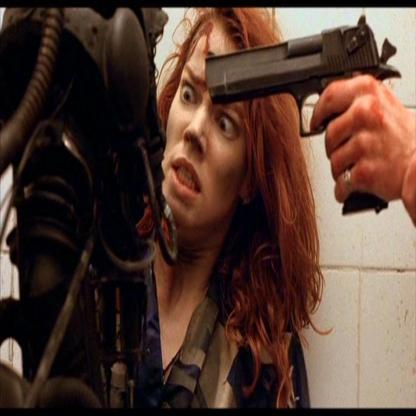gun: (186, 22, 402, 230)
